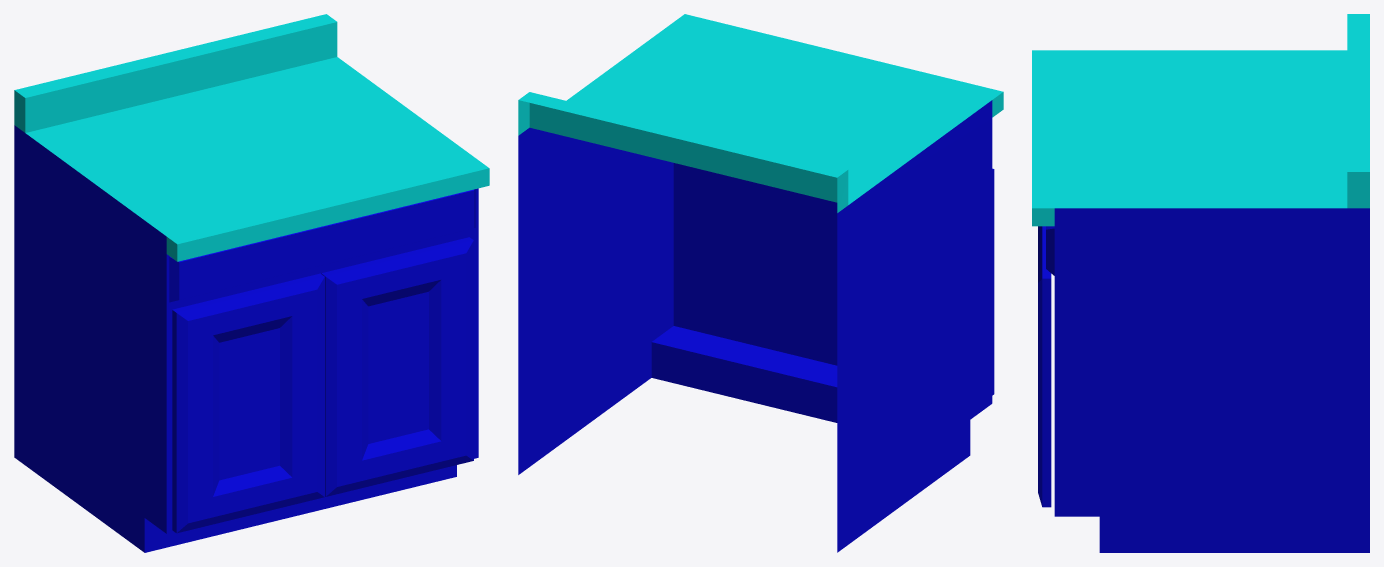
Rendered from Kitchen_LargeCabinet1.fbx.
The picture shows the model from 3 angles, left to right: view 1: azimuth 30°, elevation 25°; view 2: azimuth 150°, elevation 25°; view 3: azimuth 270°, elevation 25°; orthographic projection. The views are drawn at different scales.
Parts seen in each view (by area): view 1: SM_LargeCabinet5; view 2: SM_LargeCabinet5; view 3: SM_LargeCabinet5.
Boxes of the visible parts, x1=… form: SM_LargeCabinet5: x1=14, y1=14, x2=489, y2=552; SM_LargeCabinet5: x1=518, y1=14, x2=1003, y2=552; SM_LargeCabinet5: x1=1032, y1=14, x2=1369, y2=552.
Bounding box in the file's own units: 100 × 112 × 90.41.
